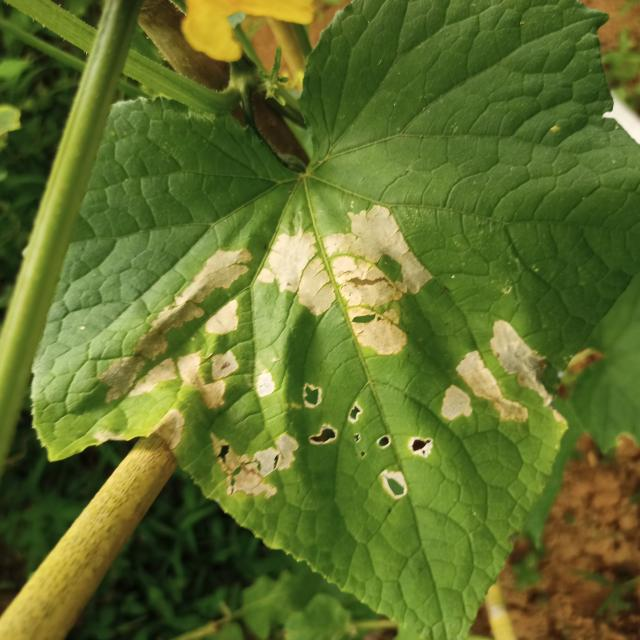disease_cucumber: (101, 204, 558, 503)
